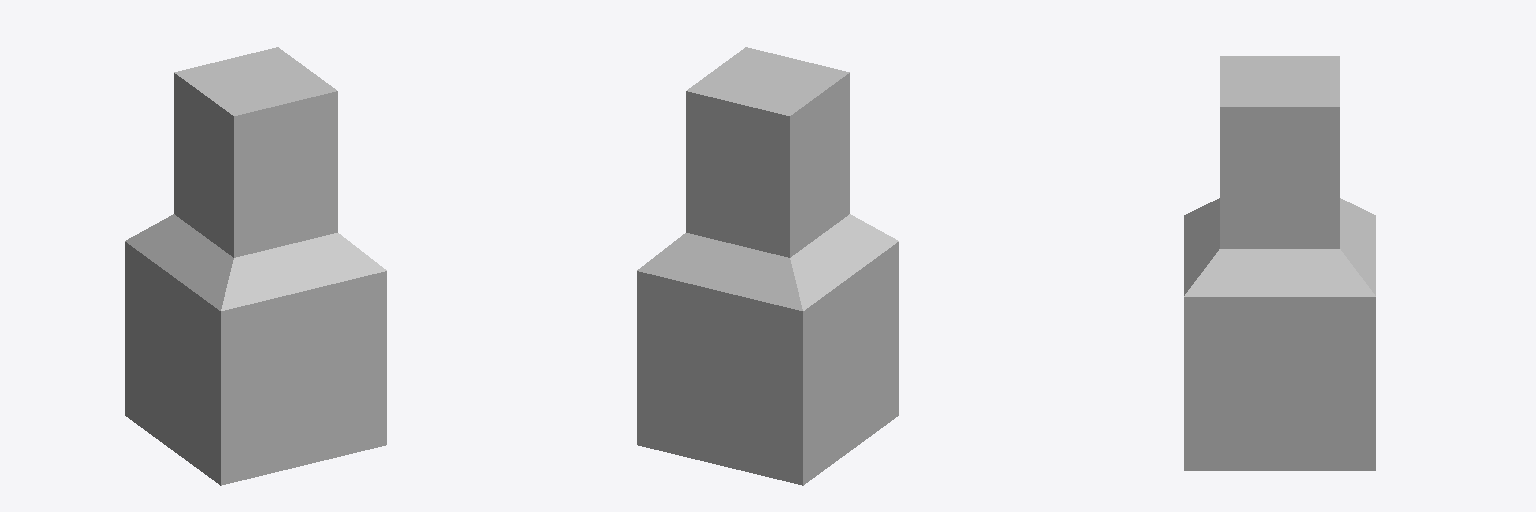
The model's file is sprinkler_inv.obj.
The picture shows the model from 3 angles: view 1: azimuth 30°, elevation 25°; view 2: azimuth 150°, elevation 25°; view 3: azimuth 270°, elevation 25°; orthographic projection.
Parts seen in each view (by area): view 1: base, cube; view 2: base, cube; view 3: cube, base.
Part boxes in pixels (x1,y1,x2,y2): base: (125,242,386,485); cube: (125,47,386,310); base: (637,242,898,485); cube: (637,47,898,310); cube: (1184,56,1375,296); base: (1184,297,1375,470).
Size of the model in its own units: 1 by 2 by 1.